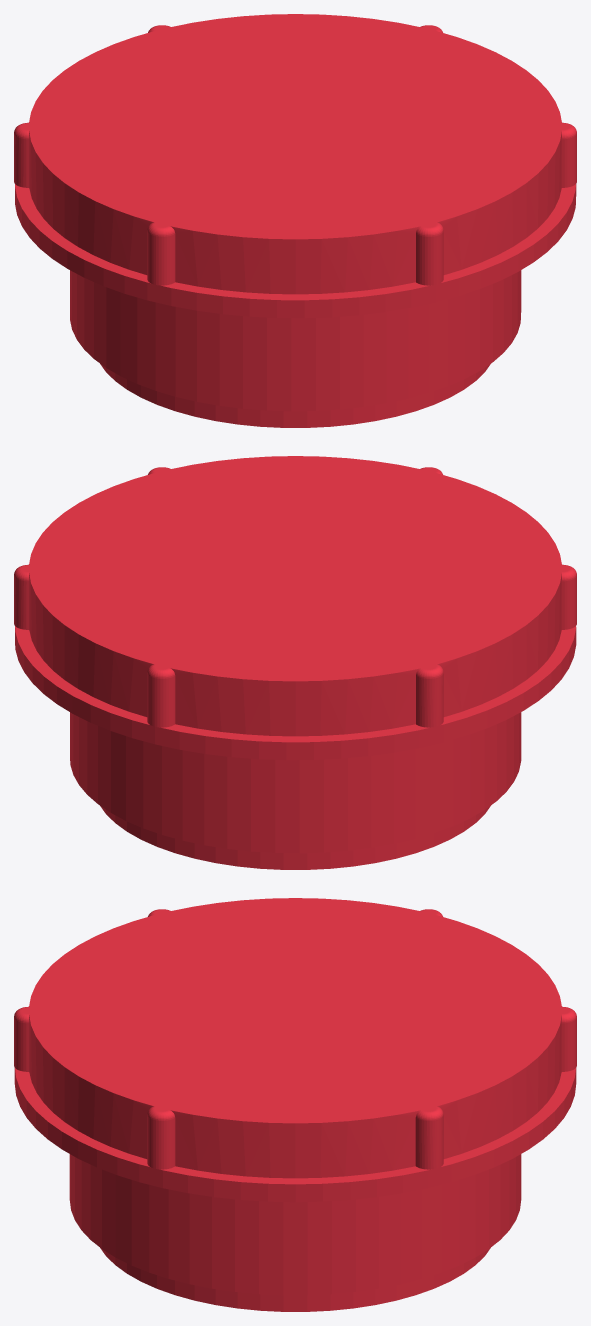
File: SRTFUGP.glb
3 renders of one model, top to bottom at view 1: azimuth 30°, elevation 25°; view 2: azimuth 150°, elevation 25°; view 3: azimuth 270°, elevation 25°, orthographic.
Visible parts, largest first — view 1: 20597597; view 2: 20597597; view 3: 20597597.
Part boxes in pixels (x1,y1,x2,y2): 20597597: (14, 14, 576, 427); 20597597: (14, 456, 576, 869); 20597597: (14, 898, 576, 1311).
Size of the model in its own units: 0.9975 by 0.4236 by 1.
